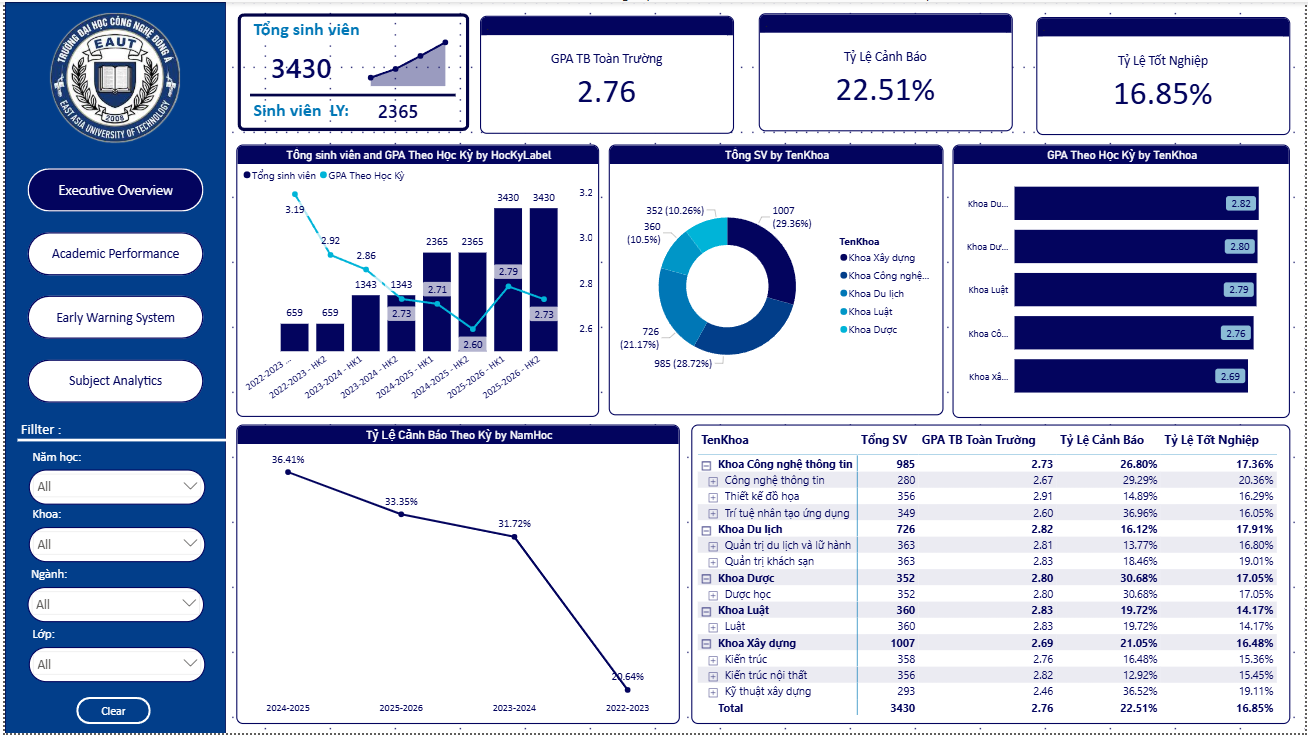

The page's visual inventory and layout, read from the dashboard file:
{"tool":"powerbi","page":{"name":"Executive Overview","canvas":[1920,1080],"ordinal":0},"visuals":[{"type":"shape","box":[0,0,326,1082],"z":0},{"type":"shape","box":[342.5,17.5,342.5,174],"z":0,"group":"g6"},{"type":"image","box":[0,15.3,325.1,194.2],"z":1000},{"type":"cardVisual","fields":{"Data":["_Mesuare.Tổng SV"]},"box":[343.3,57.5,188.7,74.6],"z":1000,"group":"g6"},{"type":"pageNavigator","box":[34,246,260,346],"z":2000},{"type":"group","id":"g1","title":"loc1","box":[34,656.2,262.7,351.8],"z":3000},{"type":"slicer","fields":{"Values":["Dim_HocKy.NamHoc"]},"box":[35.8,691.7,260.9,52.2],"z":3000,"group":"g5"},{"type":"slicer","fields":{"Values":["Dim_Khoa.TenKhoa"]},"box":[35.8,777,260.9,52.2],"z":3000,"group":"g4"},{"type":"slicer","fields":{"Values":["Dim_Nganh.TenNganh"]},"box":[34,865.5,260.9,52.2],"z":3000,"group":"g3"},{"type":"group","id":"g2","title":"Group 2","box":[36,918,260,90],"z":3000,"group":"g1"},{"type":"slicer","fields":{"Values":["Dim_Lop.TenLop"]},"box":[36,953.5,260.9,52.2],"z":3000,"group":"g2"},{"type":"actionButton","title":"Clear","box":[106,1026,110,40],"z":3500},{"type":"donutChart","fields":{"Category":["Dim_Khoa.TenKhoa"],"Y":["_Mesuare.Tổng SV"]},"box":[892,210,494,400],"z":4000},{"type":"group","id":"g3","title":"Group 2","box":[34,830,260,88],"z":4000,"group":"g1"},{"type":"lineClusteredColumnComboChart","fields":{"Category":["Dim_HocKy.HocKyLabel"],"Y":["_Mesuare.Tổng sinh viên"],"Y2":["_Mesuare.GPA Theo Học Kỳ"]},"box":[342,210,536,402],"z":5000},{"type":"group","id":"g4","title":"Group 2","box":[35.8,741.5,260.2,88.4],"z":5000,"group":"g1"},{"type":"lineChart","fields":{"Category":["Dim_HocKy.NamHoc"],"Y":["_Mesuare.Tỷ Lệ Cảnh Báo Theo Kỳ"]},"box":[342.3,624,655.3,442.4],"z":6000},{"type":"group","id":"g5","title":"Group 2","box":[35.8,656.2,260.9,87.7],"z":6000,"group":"g1"},{"type":"group","id":"g6","title":"Group 1","box":[342.5,17.5,342.5,176.7],"z":7000},{"type":"clusteredBarChart","fields":{"Category":["Dim_Khoa.TenKhoa"],"Y":["_Mesuare.GPA Theo Học Kỳ"]},"box":[1400,210,498,404],"z":8000},{"type":"pivotTable","fields":{"Rows":["Dim_Khoa.TenKhoa","Dim_Nganh.TenNganh","Dim_Lop.TenLop"],"Values":["_Mesuare.Tổng SV","_Mesuare.GPA TB Toàn Trường","_Mesuare.Tỷ Lệ Cảnh Báo","_Mesuare.Tỷ Lệ Tốt Nghiệp"]},"box":[1014.3,624,884.9,442.4],"z":9000},{"type":"textbox","box":[18,612,110,36],"z":10000},{"type":"shape","box":[18,624,308,46],"z":11000},{"type":"cardVisual","title":".","fields":{"Data":["_Mesuare.GPA TB Toàn Trường"]},"box":[701.9,19.6,375.3,174.5],"z":13000},{"type":"textbox","box":[35.8,656.2,110.6,35.5],"z":13003,"group":"g5"},{"type":"textbox","box":[35.8,741.5,110.6,35.5],"z":13003,"group":"g4"},{"type":"textbox","box":[34,830,110.6,35.5],"z":13003,"group":"g3"},{"type":"textbox","box":[36,918,110.6,35.5],"z":13003,"group":"g2"},{"type":"cardVisual","title":".","fields":{"Data":["_Mesuare.Tỷ Lệ Tốt Nghiệp"]},"box":[1522.9,21.8,375.3,174.5],"z":14000},{"type":"cardVisual","title":".","fields":{"Data":["_Mesuare.Tỷ Lệ Cảnh Báo"]},"box":[1112.4,17.5,375.3,174.5],"z":15000},{"type":"textbox","box":[361.1,19.6,214.4,64.2],"z":17000,"group":"g6"},{"type":"shape","box":[360.9,126.8,303.7,23.8],"z":18000,"group":"g6"},{"type":"lineChart","fields":{"Category":["Dim_HocKy.NamHoc"],"Y":["_Mesuare.Tổng sinh viên"]},"box":[519.3,36,149.6,95.3],"z":19000,"group":"g6"},{"type":"textbox","box":[360.9,138.7,185.4,53.6],"z":20000,"group":"g6"},{"type":"cardVisual","fields":{"Data":["_Mesuare.Tổng SV Năm Trước"]},"box":[506,125.9,146.8,68.4],"z":21000,"group":"g6"}]}

Visuals, with their boxes in screenshot pixels (x1, y1, x2, y2), scaled from the page's 1920x1080 canvas onto the 1308x740 screenshot:
shape: [0, 0, 222, 739]
shape: [233, 12, 467, 131]
image: [0, 10, 221, 144]
cardVisual - _Mesuare.Tổng SV: [234, 39, 362, 91]
pageNavigator: [23, 169, 200, 406]
"loc1" group: [23, 450, 202, 691]
slicer - Dim_HocKy.NamHoc: [24, 474, 202, 510]
slicer - Dim_Khoa.TenKhoa: [24, 532, 202, 568]
slicer - Dim_Nganh.TenNganh: [23, 593, 201, 629]
"Group 2" group: [25, 629, 202, 691]
slicer - Dim_Lop.TenLop: [25, 653, 202, 689]
"Clear" actionButton: [72, 703, 147, 730]
donutChart - Dim_Khoa.TenKhoa x _Mesuare.Tổng SV: [608, 144, 944, 418]
"Group 2" group: [23, 569, 200, 629]
lineClusteredColumnComboChart - Dim_HocKy.HocKyLabel x _Mesuare.Tổng sinh viên: [233, 144, 598, 419]
"Group 2" group: [24, 508, 202, 569]
lineChart - Dim_HocKy.NamHoc x _Mesuare.Tỷ Lệ Cảnh Báo Theo Kỳ: [233, 428, 680, 731]
"Group 2" group: [24, 450, 202, 510]
"Group 1" group: [233, 12, 467, 133]
clusteredBarChart - Dim_Khoa.TenKhoa x _Mesuare.GPA Theo Học Kỳ: [954, 144, 1293, 421]
pivotTable - Dim_Khoa.TenKhoa x Dim_Nganh.TenNganh: [691, 428, 1294, 731]
textbox: [12, 419, 87, 444]
shape: [12, 428, 222, 459]
"." cardVisual: [478, 13, 734, 133]
textbox: [24, 450, 100, 474]
textbox: [24, 508, 100, 532]
textbox: [23, 569, 99, 593]
textbox: [25, 629, 100, 653]
"." cardVisual: [1037, 15, 1293, 135]
"." cardVisual: [758, 12, 1013, 132]
textbox: [246, 13, 392, 57]
shape: [246, 87, 453, 103]
lineChart - Dim_HocKy.NamHoc x _Mesuare.Tổng sinh viên: [354, 25, 456, 90]
textbox: [246, 95, 372, 132]
cardVisual - _Mesuare.Tổng SV Năm Trước: [345, 86, 445, 133]
